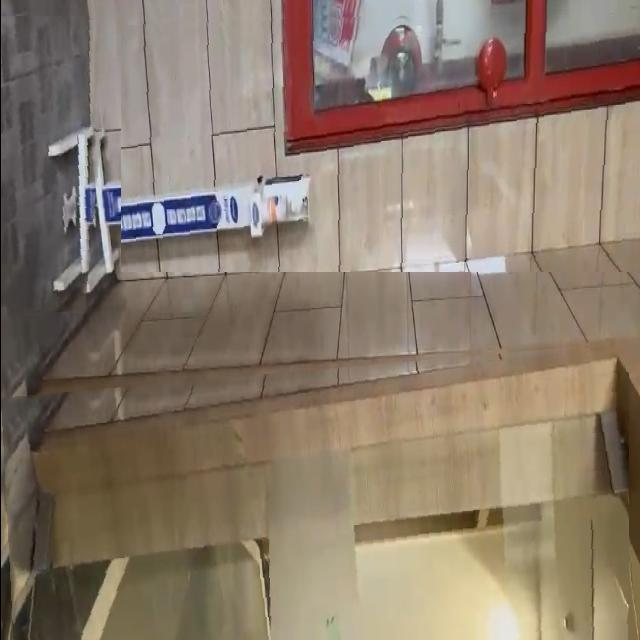door: (0, 342, 628, 640)
floor: (0, 16, 112, 314)
wall: (120, 6, 640, 272)
